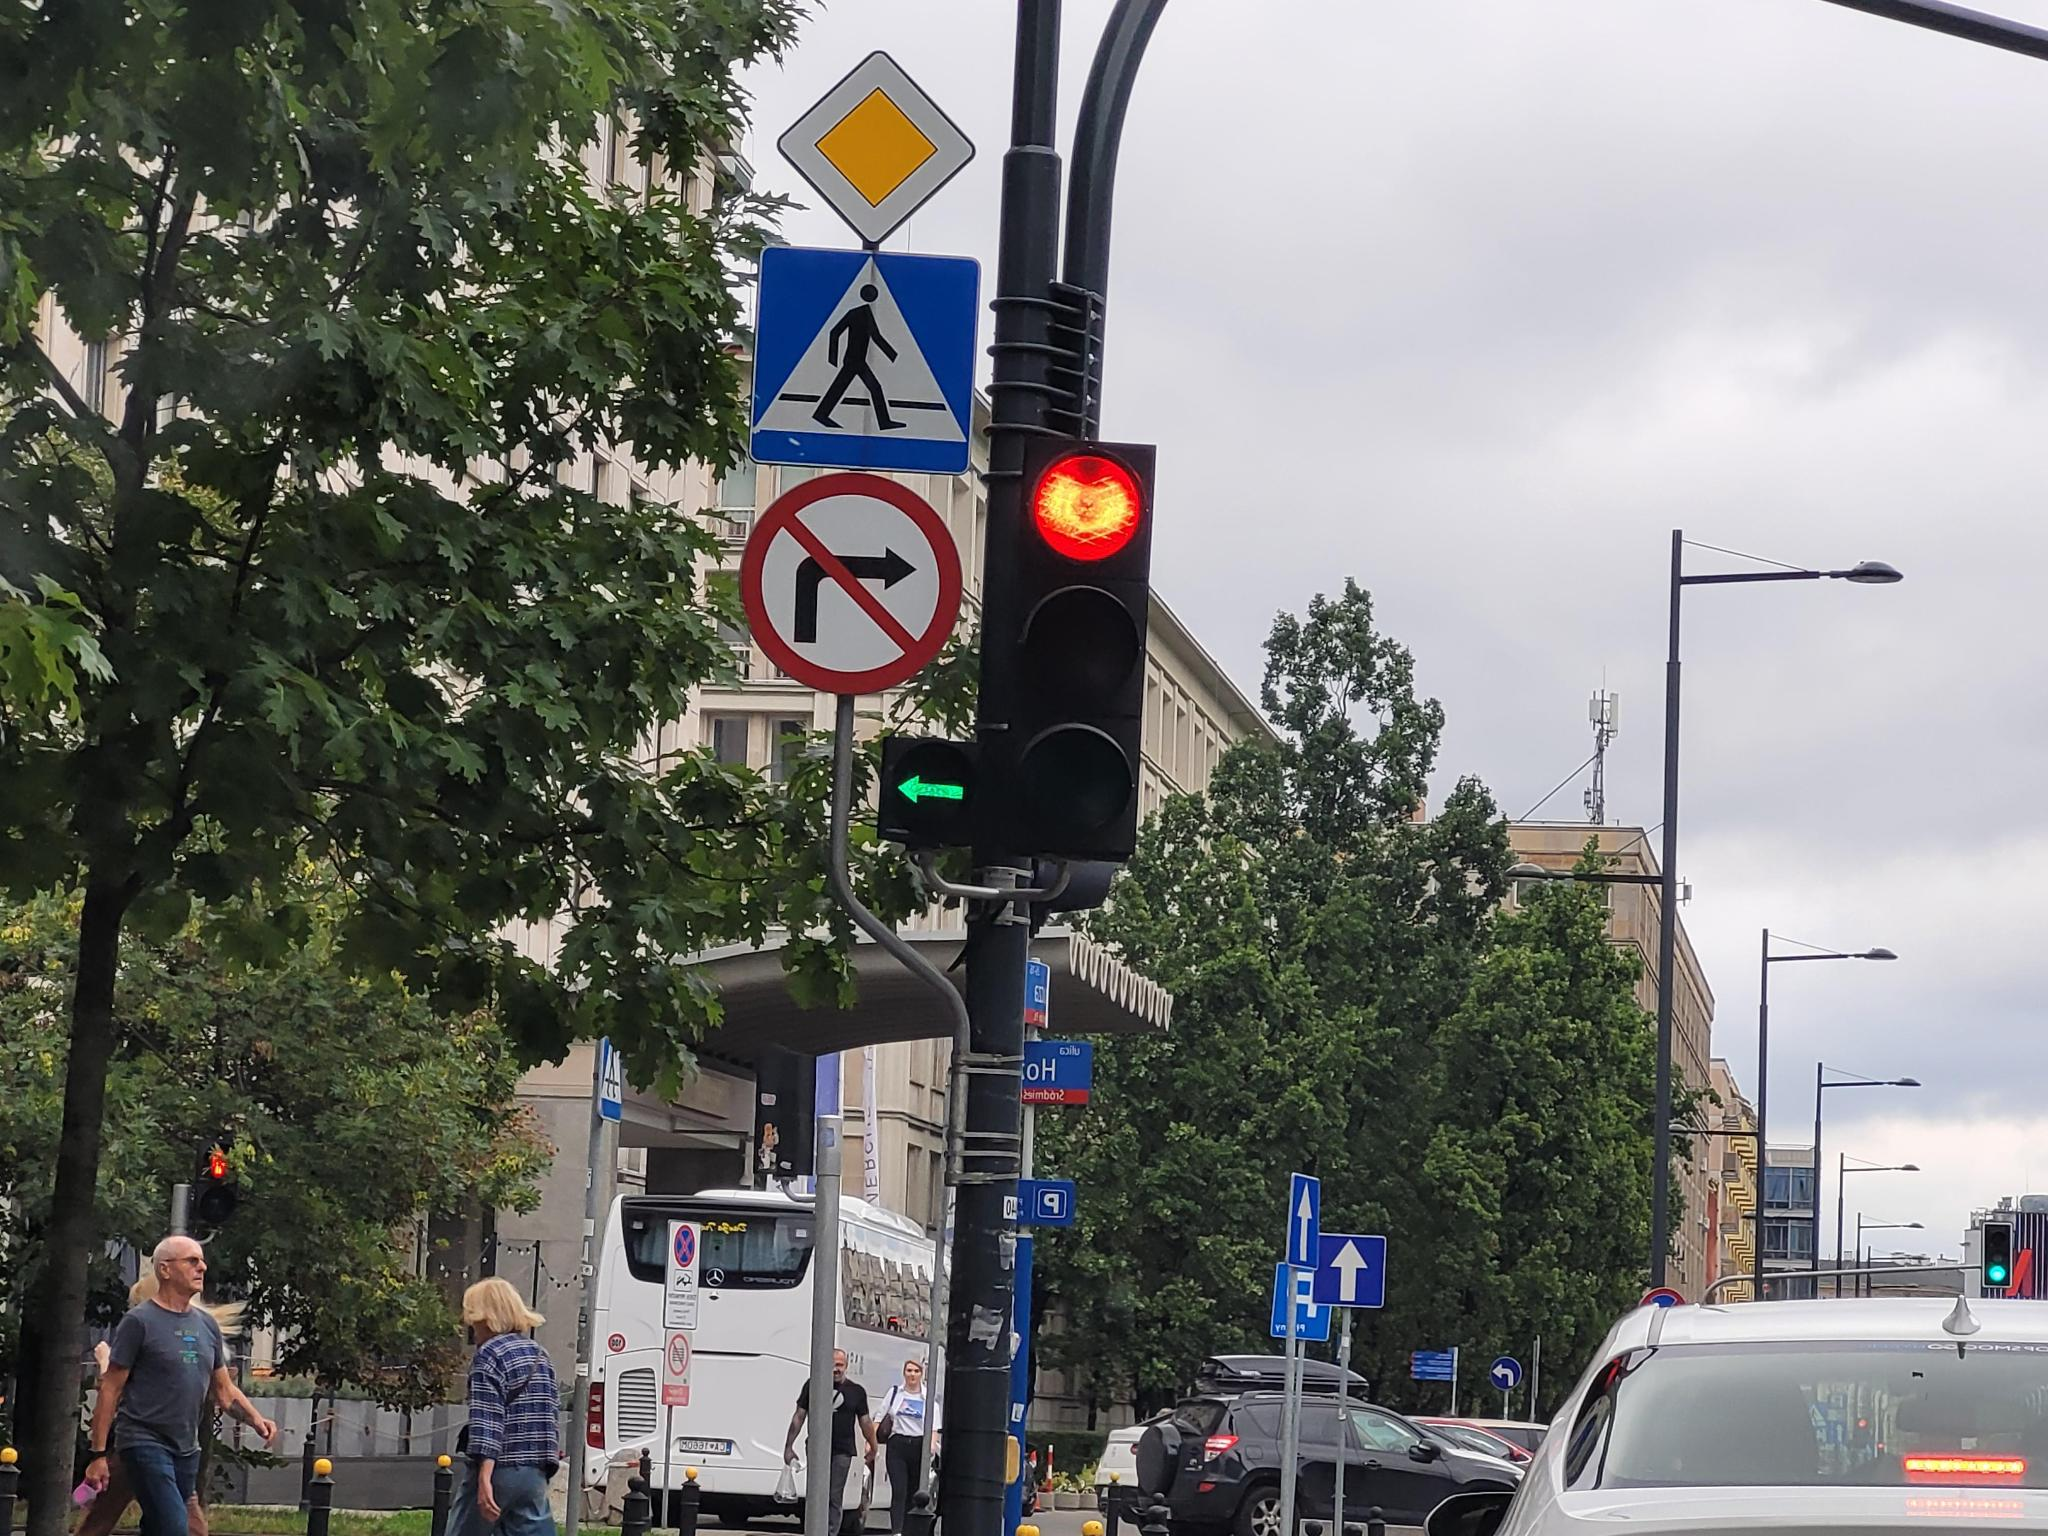information: (751, 255, 974, 466), (777, 48, 976, 245), (1313, 1236, 1385, 1304), (1290, 1176, 1314, 1267), (601, 1042, 622, 1118)
mandatory: (1490, 1357, 1522, 1391)
prohibitory: (739, 473, 963, 697), (674, 1225, 695, 1268), (668, 1333, 689, 1375), (1638, 1288, 1685, 1305)
